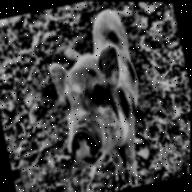boar: (37, 2, 172, 192), (35, 1, 169, 192)
